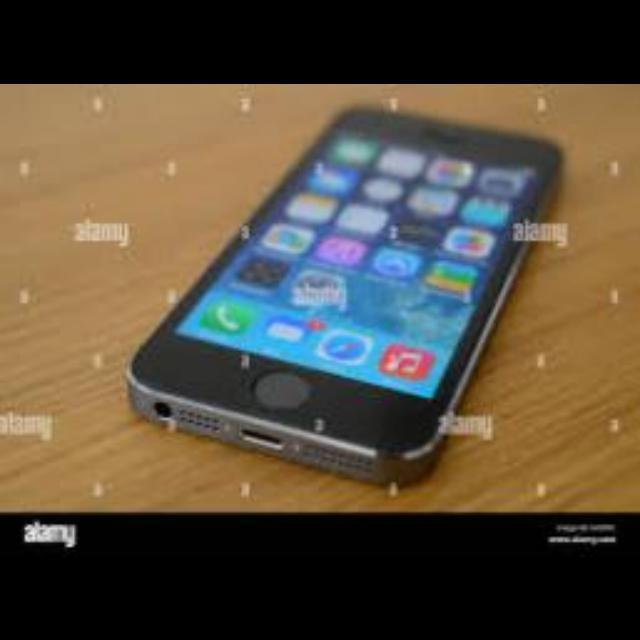PhoneUse: (126, 106, 572, 478)
